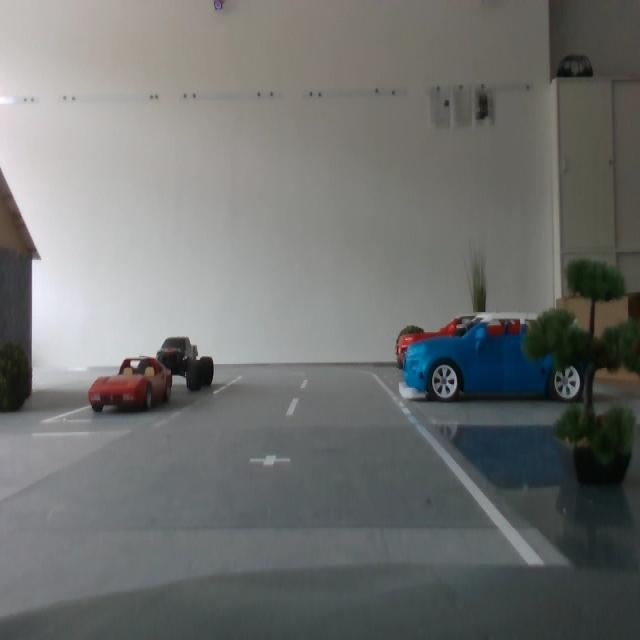car: (403, 312, 588, 402), (399, 316, 592, 401), (88, 356, 173, 413), (151, 336, 218, 393)
potted plant: (524, 260, 640, 485), (463, 236, 489, 362), (397, 325, 427, 369)
